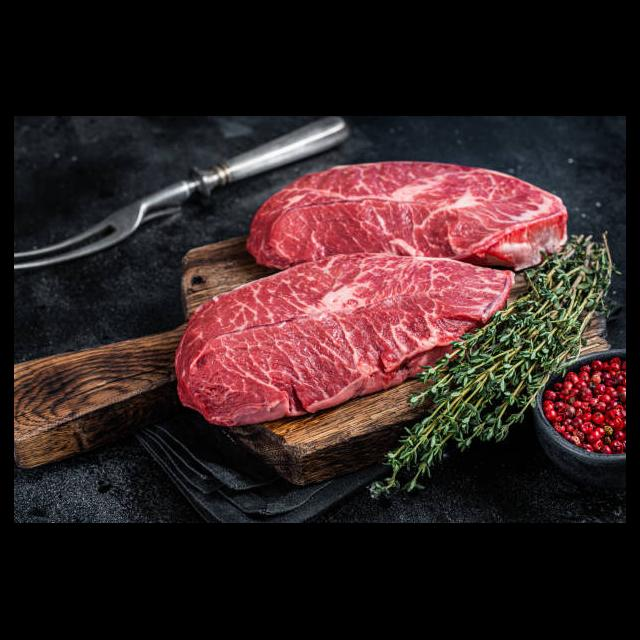beef: (171, 252, 513, 424), (246, 158, 568, 274)
